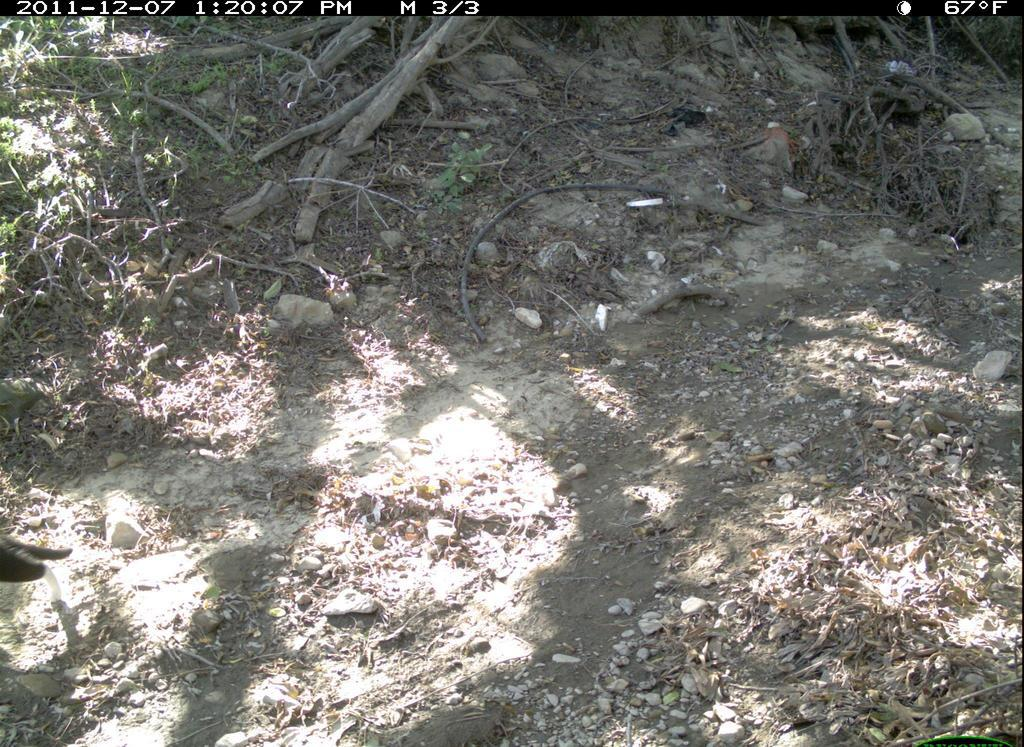cat: (3, 492, 76, 630)
